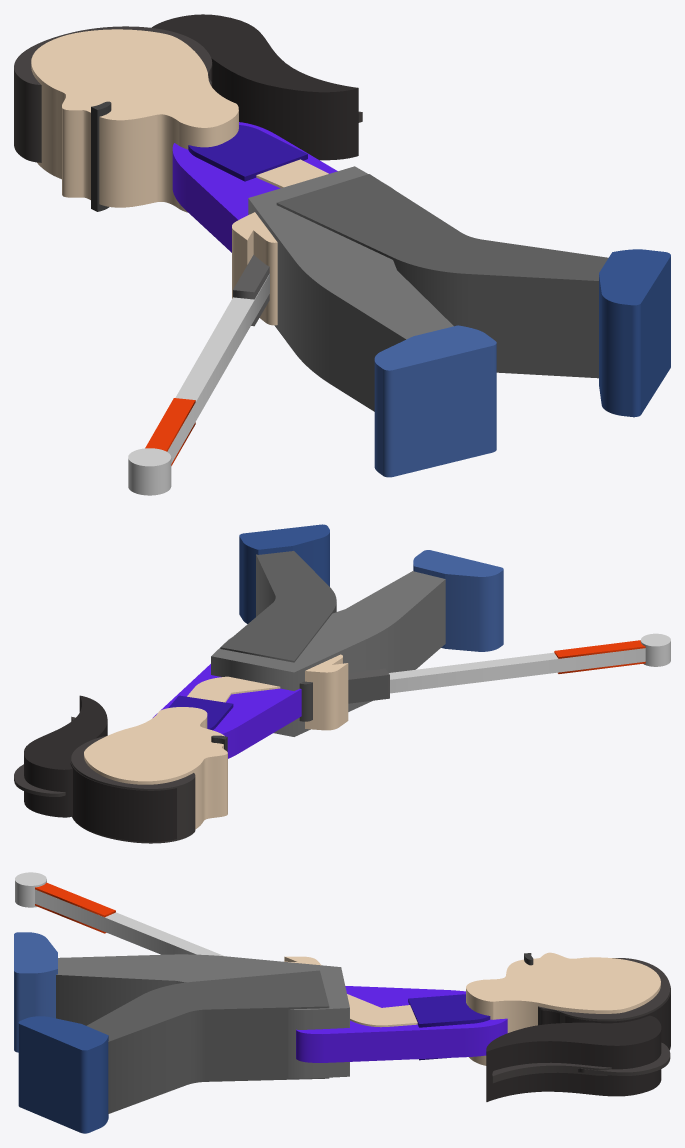
The model's file is emoji_u1f469_1f3fb_200d_1f9af.glb.
The picture shows the model from 3 angles, top to bottom: view 1: azimuth 30°, elevation 25°; view 2: azimuth 150°, elevation 25°; view 3: azimuth 270°, elevation 25°; orthographic projection. The views are drawn at different scales.
Parts seen in each view (by area): view 1: emoji_u1f469_1f3fb_200d_1f9af; view 2: emoji_u1f469_1f3fb_200d_1f9af; view 3: emoji_u1f469_1f3fb_200d_1f9af.
Boxes of the visible parts, left/top/right/bottom form: emoji_u1f469_1f3fb_200d_1f9af: left=14, top=14, right=670, bottom=495; emoji_u1f469_1f3fb_200d_1f9af: left=14, top=524, right=670, bottom=843; emoji_u1f469_1f3fb_200d_1f9af: left=14, top=872, right=670, bottom=1133.
Bounding box in the file's own units: 0.0248 × 0.0046 × 0.033.
